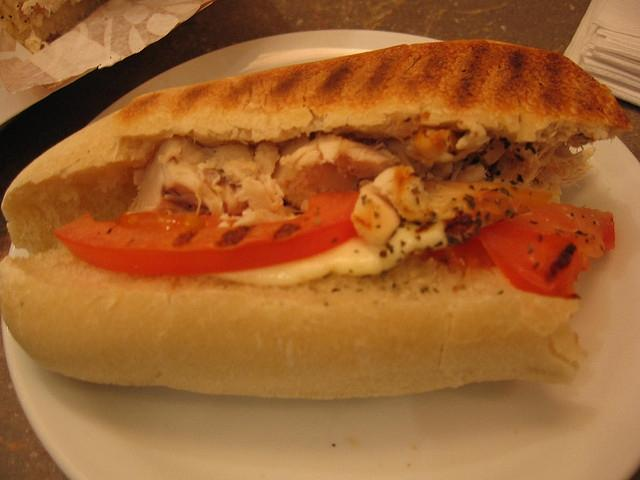tomato: (53, 190, 359, 273), (480, 204, 615, 300), (424, 236, 496, 277)
